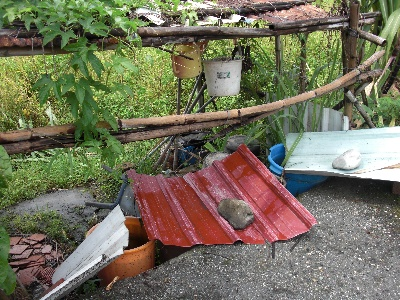bowl: (169, 40, 205, 82)
bucket: (82, 211, 158, 287), (202, 57, 243, 97)
